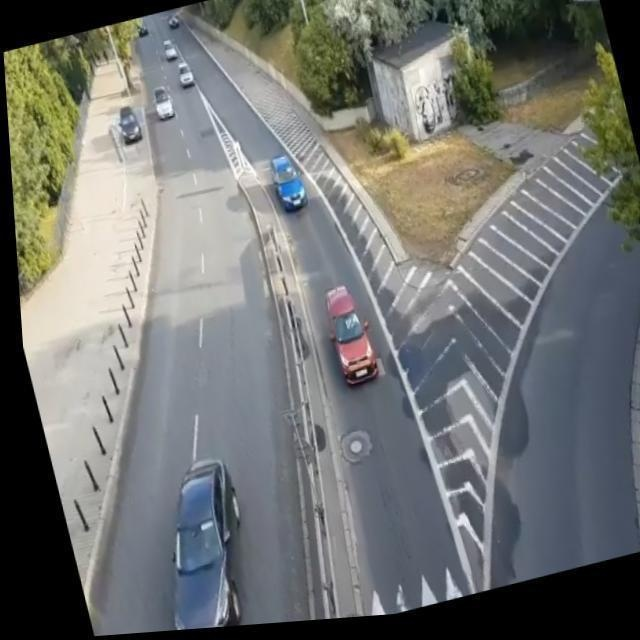Car: (172, 458, 248, 632), (317, 282, 382, 393), (264, 150, 308, 217), (115, 106, 144, 150), (148, 86, 176, 124), (171, 61, 197, 91), (158, 39, 182, 63)
